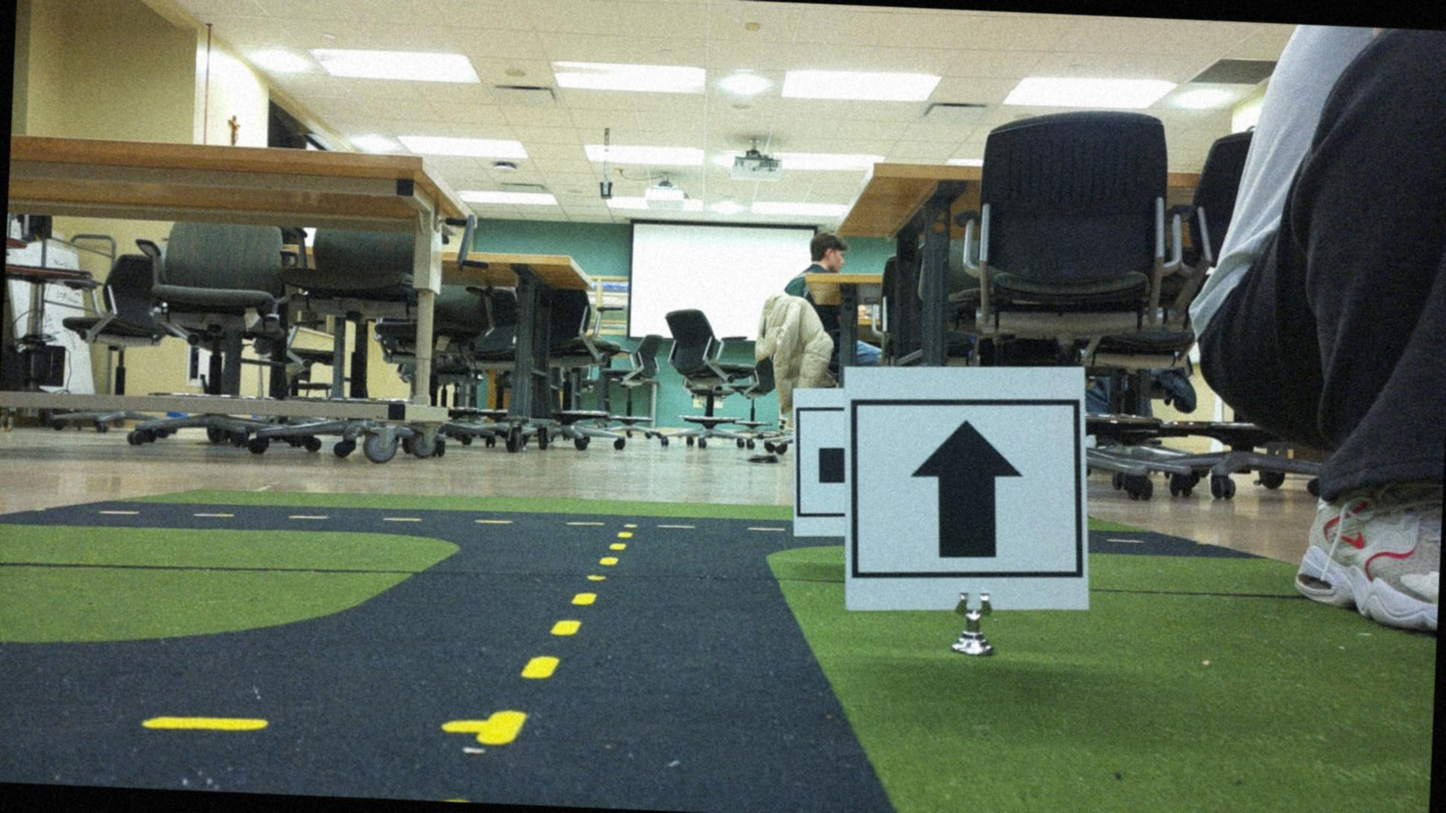gostraight: (850, 370, 1091, 610)
yellowline: (478, 516, 636, 751)
